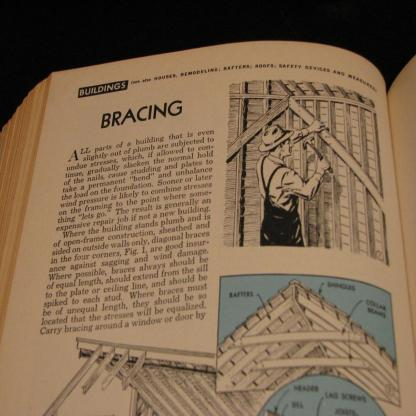book: (0, 27, 416, 410)
